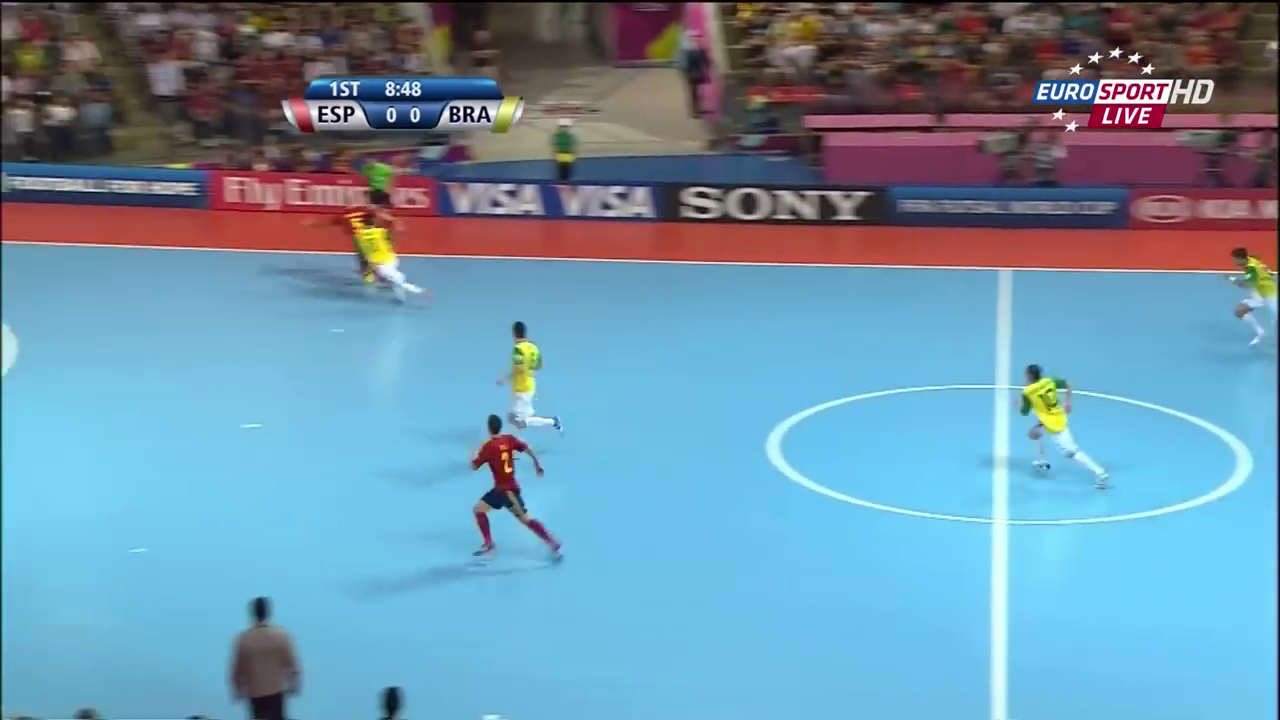person: (462, 415, 568, 570), (1009, 363, 1112, 489), (488, 324, 567, 435), (353, 211, 422, 301), (1223, 245, 1280, 351), (306, 196, 396, 235)
